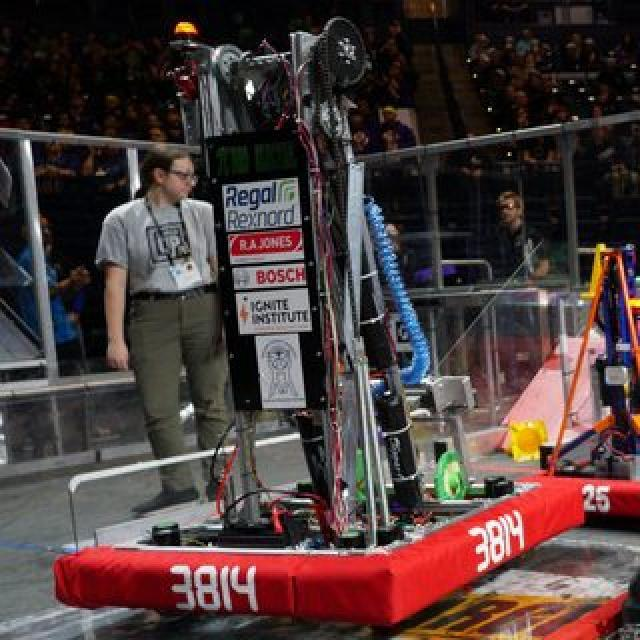robot: (43, 3, 596, 608), (519, 233, 640, 519)
